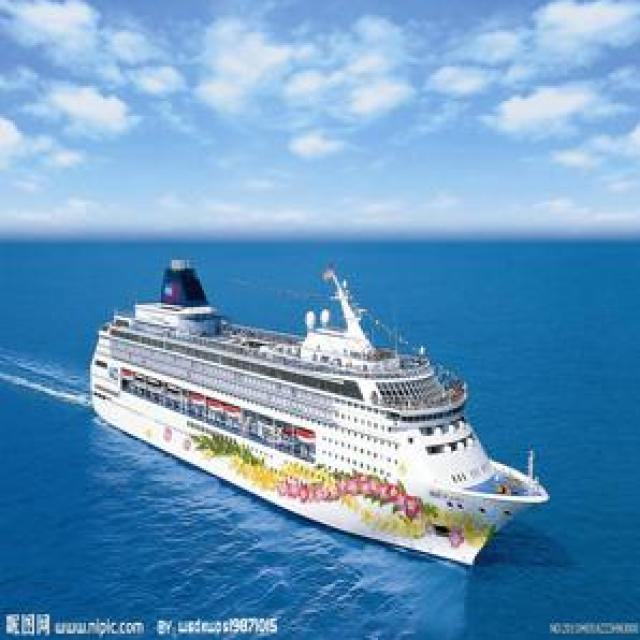passenger ship: (90, 249, 558, 590)
